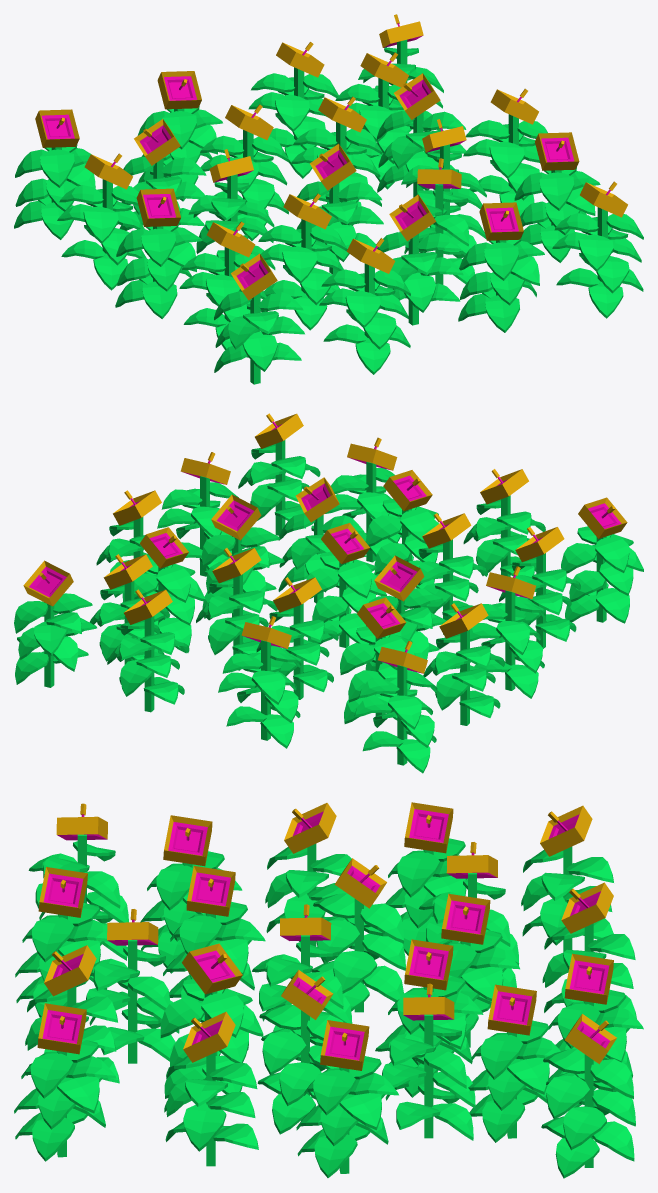
The model's file is HibiscusPatch.fbx.
3 renders of one model, top to bottom at view 1: azimuth 30°, elevation 25°; view 2: azimuth 150°, elevation 25°; view 3: azimuth 270°, elevation 25°, orthographic. The views are drawn at different scales.
Parts seen in each view (by area): view 1: Cube; view 2: Cube; view 3: Cube.
Part boxes in pixels (bbox=[...]): Cube: bbox=[14, 14, 643, 384]; Cube: bbox=[14, 413, 643, 773]; Cube: bbox=[14, 802, 643, 1178].
Bounding box in the file's own units: 192 × 187 × 49.2.
